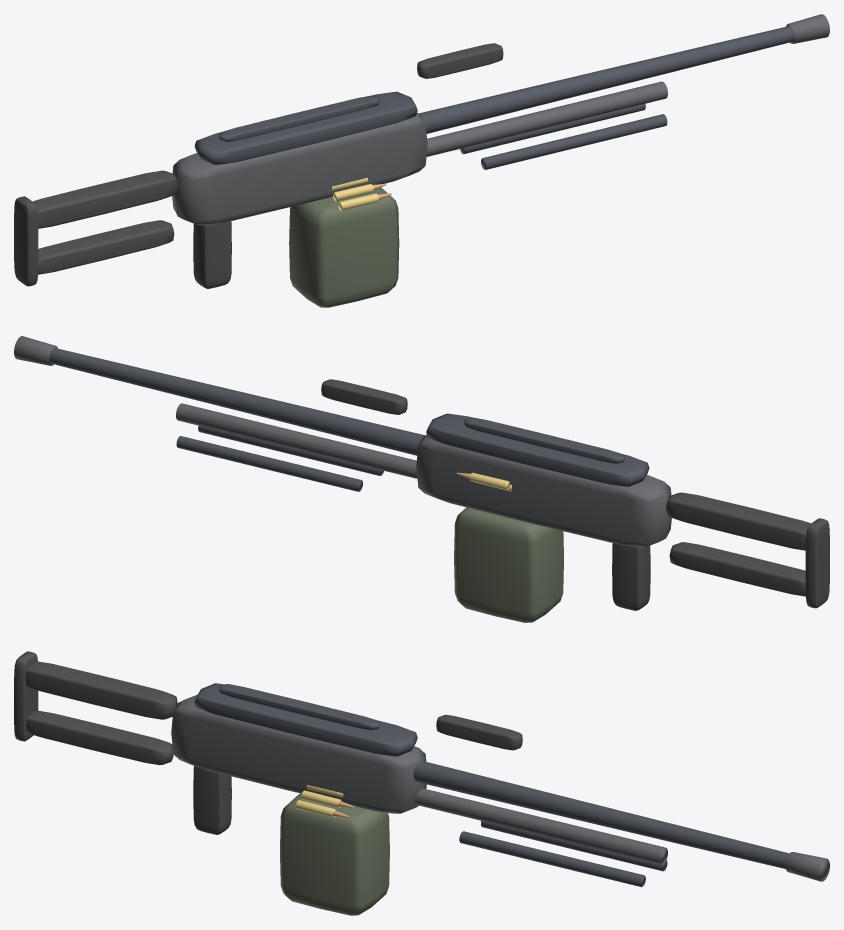
File: km762-reg.glb
3 renders of one model, top to bottom at view 1: azimuth 30°, elevation 25°; view 2: azimuth 150°, elevation 25°; view 3: azimuth 330°, elevation 25°, orthographic.
Parts seen in each view (by area): view 1: receiver_body, ammo_box_100rd, barrel_658mm, top_feed_cover, gas_cylinder, buttstock_top, buttstock_bot, bipod_leg_R, pistol_grip, top_picatinny, buttpad, carry_handle (+2 smaller); view 2: receiver_body, ammo_box_100rd, barrel_658mm, top_feed_cover, gas_cylinder, buttstock_top, buttstock_bot, bipod_leg_L, pistol_grip, top_picatinny, buttpad, carry_handle (+2 smaller); view 3: receiver_body, ammo_box_100rd, barrel_658mm, top_feed_cover, gas_cylinder, buttstock_top, buttstock_bot, bipod_leg_R, pistol_grip, top_picatinny, carry_handle, buttpad (+2 smaller).
Part boxes in pixels (x1=…): receiver_body: x1=172, y1=113, x2=427, y2=225; ammo_box_100rd: x1=289, y1=187, x2=399, y2=307; barrel_658mm: x1=419, y1=26, x2=794, y2=133; top_feed_cover: x1=194, y1=91, x2=417, y2=164; gas_cylinder: x1=426, y1=81, x2=667, y2=156; buttstock_top: x1=33, y1=170, x2=177, y2=228; buttstock_bot: x1=38, y1=220, x2=174, y2=274; bipod_leg_R: x1=481, y1=114, x2=667, y2=169; pistol_grip: x1=193, y1=221, x2=231, y2=288; top_picatinny: x1=219, y1=95, x2=379, y2=141; buttpad: x1=14, y1=196, x2=38, y2=286; carry_handle: x1=417, y1=43, x2=503, y2=78; receiver_body: x1=416, y1=434, x2=671, y2=547; ammo_box_100rd: x1=454, y1=507, x2=563, y2=622; barrel_658mm: x1=49, y1=348, x2=424, y2=455; top_feed_cover: x1=426, y1=413, x2=649, y2=486; gas_cylinder: x1=176, y1=403, x2=417, y2=478; buttstock_top: x1=666, y1=492, x2=810, y2=550; buttstock_bot: x1=669, y1=542, x2=805, y2=596; bipod_leg_L: x1=176, y1=436, x2=362, y2=491; pistol_grip: x1=612, y1=543, x2=650, y2=610; top_picatinny: x1=464, y1=417, x2=624, y2=463; buttpad: x1=805, y1=518, x2=829, y2=608; carry_handle: x1=321, y1=379, x2=407, y2=414; receiver_body: x1=171, y1=694, x2=426, y2=813; ammo_box_100rd: x1=280, y1=793, x2=389, y2=915; barrel_658mm: x1=413, y1=761, x2=789, y2=868; top_feed_cover: x1=194, y1=683, x2=417, y2=756; gas_cylinder: x1=415, y1=788, x2=667, y2=864; buttstock_top: x1=25, y1=661, x2=177, y2=719; buttstock_bot: x1=26, y1=710, x2=173, y2=765; bipod_leg_R: x1=459, y1=831, x2=645, y2=887; pistol_grip: x1=193, y1=766, x2=231, y2=834; top_picatinny: x1=219, y1=684, x2=379, y2=730; carry_handle: x1=436, y1=714, x2=522, y2=750; buttpad: x1=14, y1=651, x2=38, y2=741.
Size of the model in its own units: 1.2 by 0.2835 by 0.11.
